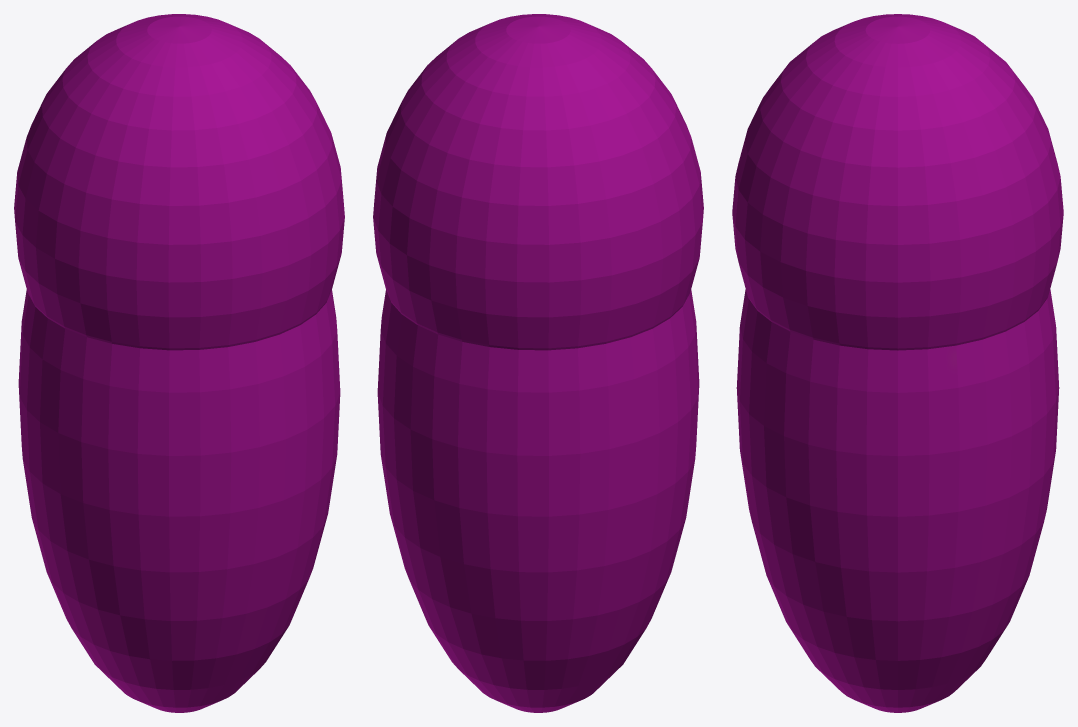
Rendered from MusloDer_Jugador.obj.
The picture shows the model from 3 angles, left to right: view 1: azimuth 30°, elevation 25°; view 2: azimuth 150°, elevation 25°; view 3: azimuth 270°, elevation 25°; orthographic projection.
Visible parts, largest first — view 1: MusloDer_Jugador; view 2: MusloDer_Jugador; view 3: MusloDer_Jugador.
Boxes of the visible parts, x1=… form: MusloDer_Jugador: x1=14, y1=14, x2=344, y2=712; MusloDer_Jugador: x1=373, y1=14, x2=703, y2=712; MusloDer_Jugador: x1=732, y1=14, x2=1063, y2=712.
Size of the model in its own units: 1.15 by 2.6 by 1.15.
Materials: 1 (1 with a texture image).
